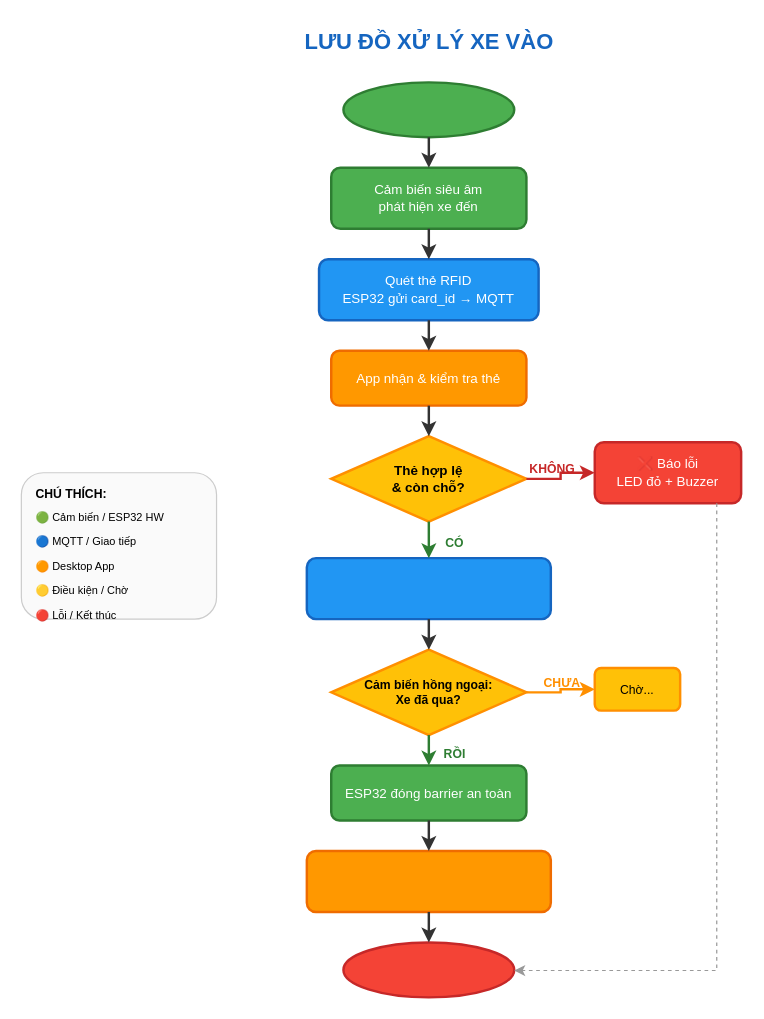
Some shapes in this 764 by 1019 pixel diagram are drawn without their labels. Each missing label, with the centre of its shape:
"App gửi lệnh mở cổng → MQTT ESP32 mở barrier" goes at [428,588].
"App tăng carCount Lưu DB + Cập nhật Dashboard" goes at [428,881].
"BẮT ĐẦU" goes at [428,109].
"KẾT THÚC" goes at [428,969].
